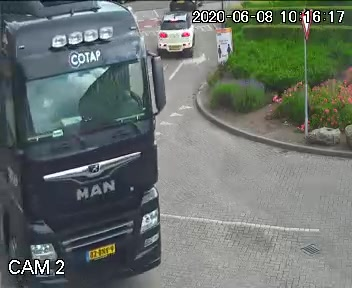car: (0, 0, 172, 285), (154, 9, 201, 60)
